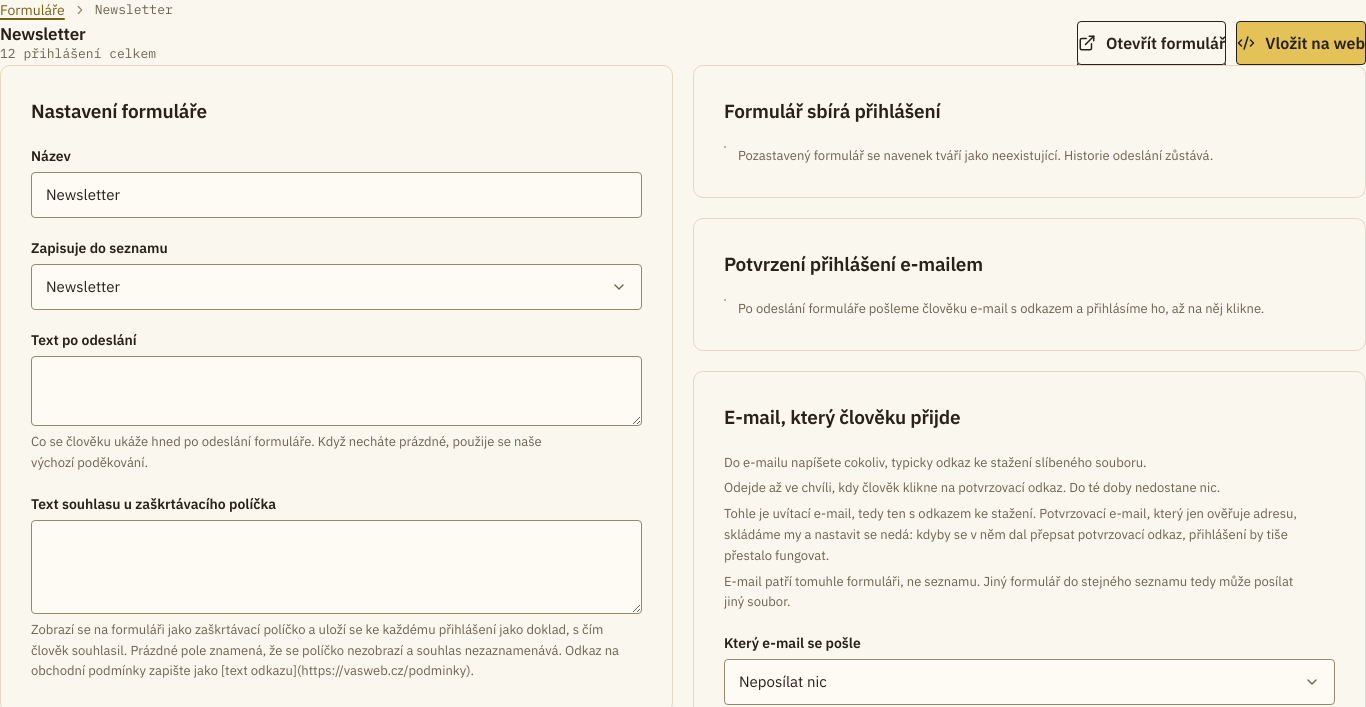
Test case: FormEditor a ostatní nastavení › selhání uložení řekne důvod ze serveru
What coordinates should you click on to do the following:
click the switch named "Formulář sbírá přihlášení"
I would click on:
 (725, 147)
Its box is [724,146,726,148].
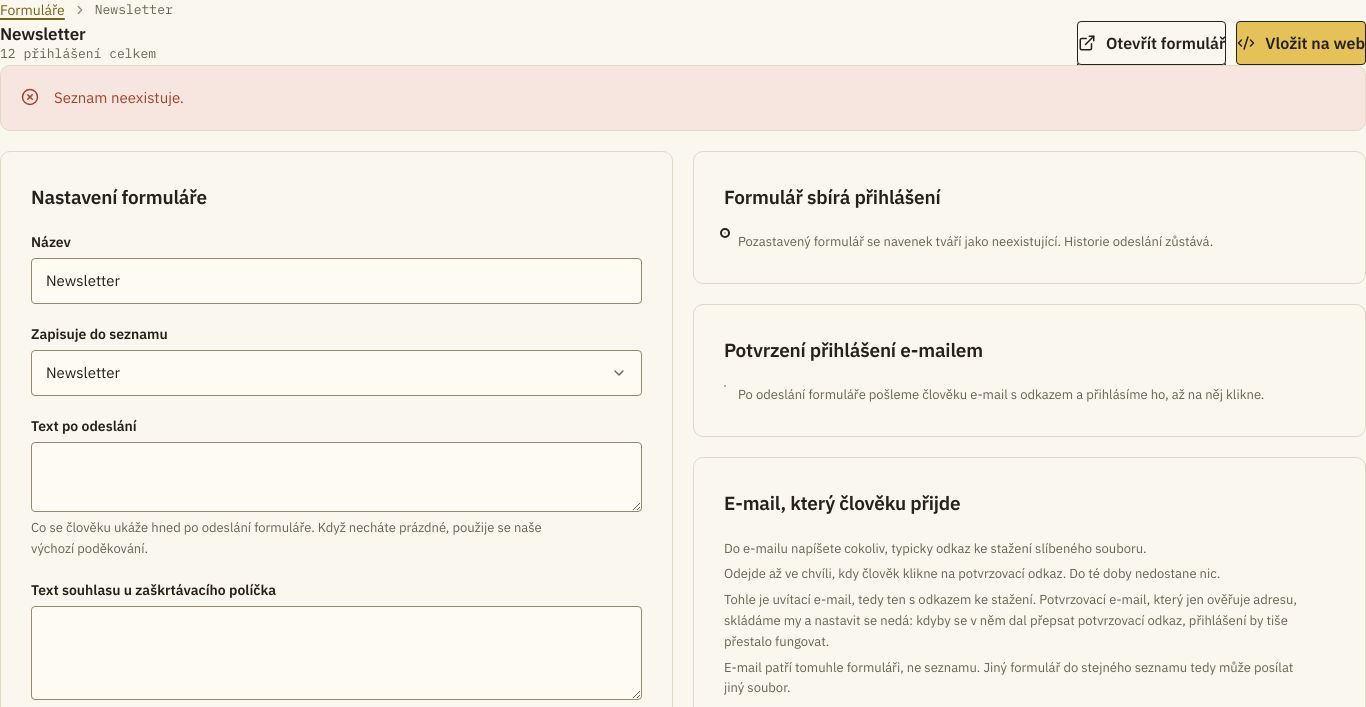
Now the message with test id "form-editor-error" reads "Seznam neexistuje.", box [54,88,184,107]
